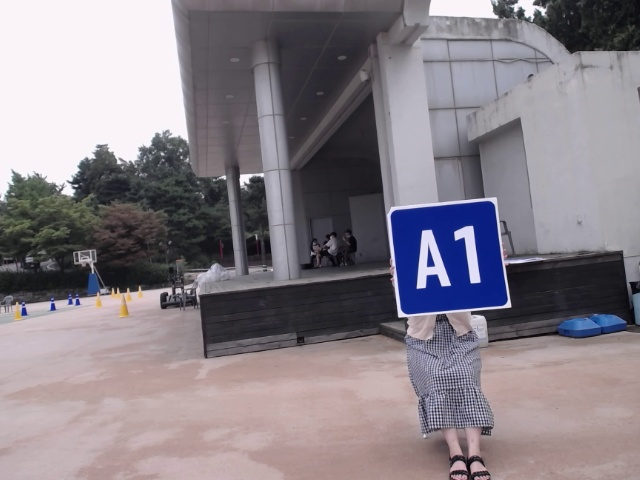delivery_a1: (390, 199, 509, 316)
